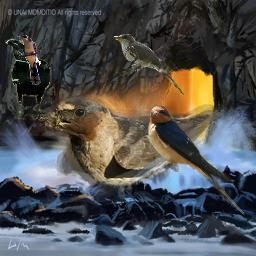Crow: (5, 39, 50, 121)
Cuckoo: (113, 34, 184, 95), (16, 35, 41, 85)
Swallow: (45, 96, 224, 193), (147, 105, 245, 216)
